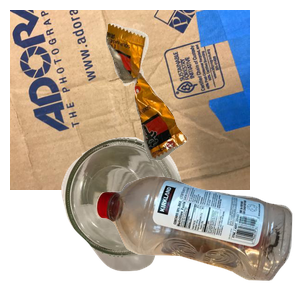cardboard: (10, 10, 250, 190)
glass: (59, 135, 254, 300)
plastic: (93, 173, 300, 300)
trash: (103, 21, 300, 174)
